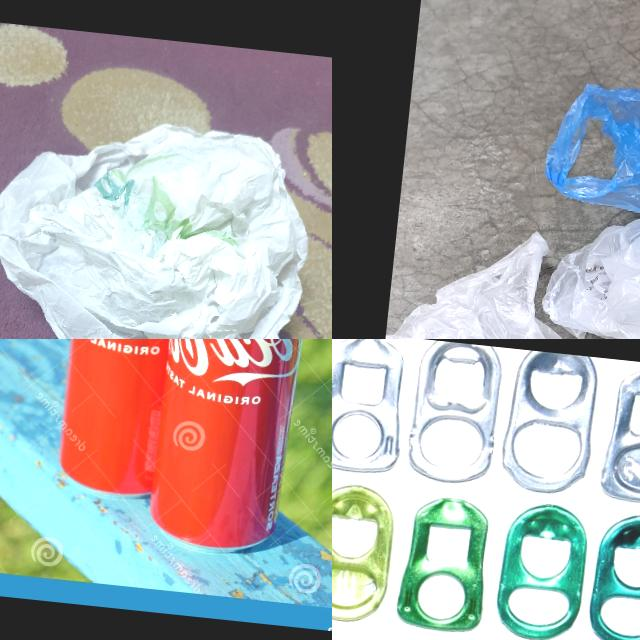aba de lata: (498, 348, 602, 498), (403, 339, 505, 488), (394, 492, 494, 634), (493, 496, 591, 640), (332, 339, 411, 476), (332, 480, 399, 625), (588, 509, 640, 640), (598, 363, 640, 506)
lata: (146, 339, 316, 563), (53, 339, 213, 504)
sacola plástica: (0, 100, 326, 339), (365, 220, 640, 339), (531, 80, 640, 311), (529, 201, 640, 339)
